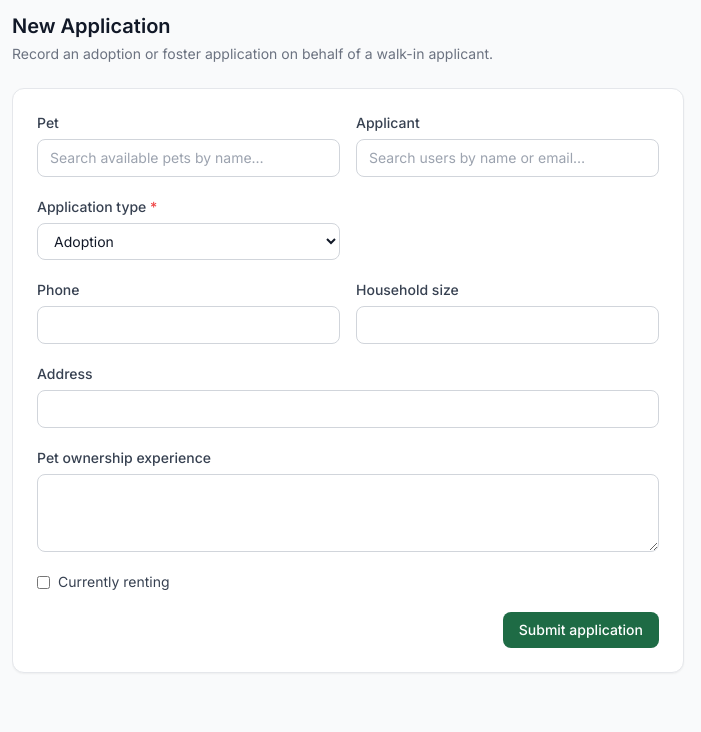
Test: AdoptionForm page › blocks submission until both a pet and an applicant are selected
Click the button "Submit application".
click(581, 630)  # box x1=503 y1=612 x2=659 y2=648
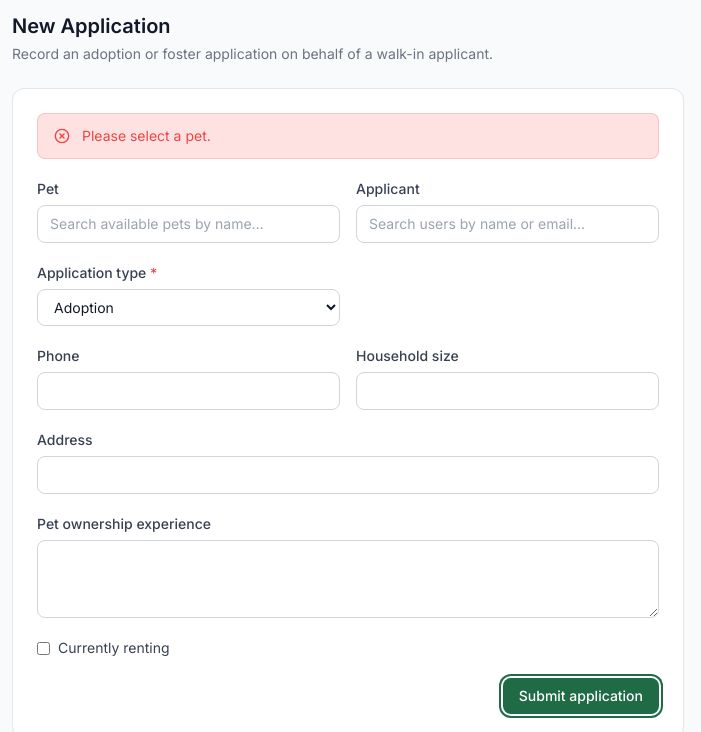
Now the text "Please select a pet." is shown, box x1=82 y1=126 x2=211 y2=146
